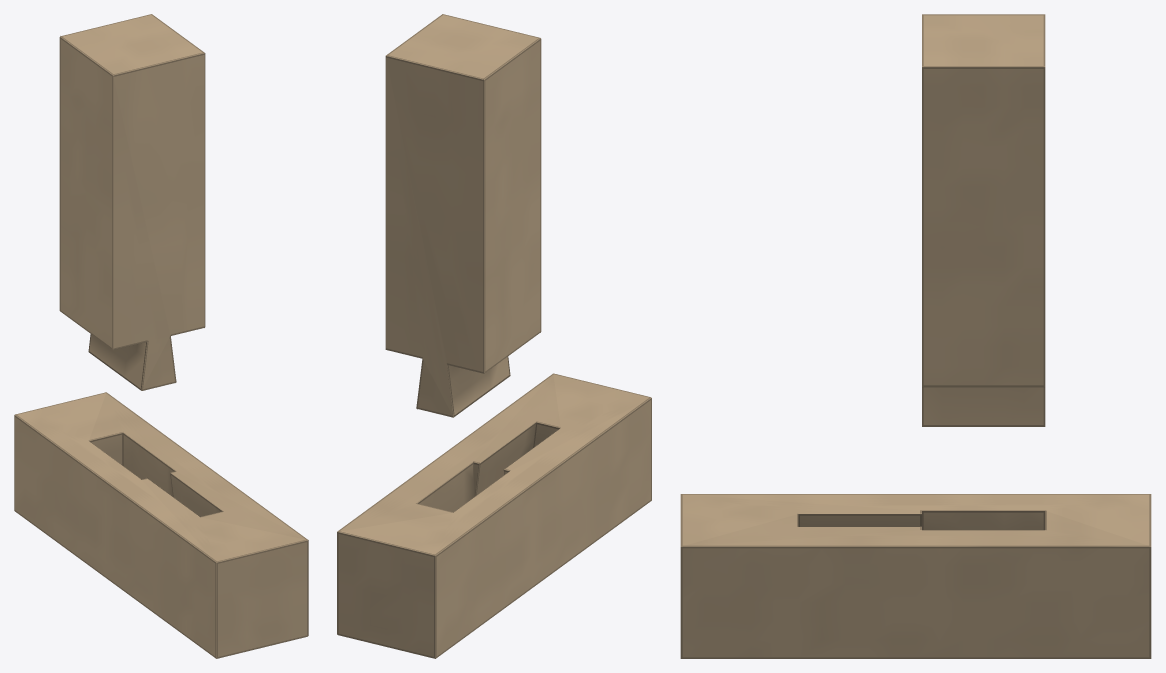
Rendered from yose-ari-hozo-shikuchi.glb.
The picture shows the model from 3 angles, left to right: view 1: azimuth 30°, elevation 25°; view 2: azimuth 150°, elevation 25°; view 3: azimuth 270°, elevation 25°; orthographic projection. The views are drawn at different scales.
Parts seen in each view (by area): view 1: part-b, part-a; view 2: part-b, part-a; view 3: part-a, part-b.
Boxes of the visible parts, left/top/right/bottom form: part-b: left=59, top=14, right=205, bottom=390; part-a: left=14, top=392, right=308, bottom=658; part-b: left=385, top=14, right=541, bottom=417; part-a: left=337, top=373, right=651, bottom=658; part-a: left=680, top=494, right=1151, bottom=658; part-b: left=922, top=14, right=1045, bottom=426.
Size of the model in its own units: 0.1058 by 0.5566 by 0.4008.
